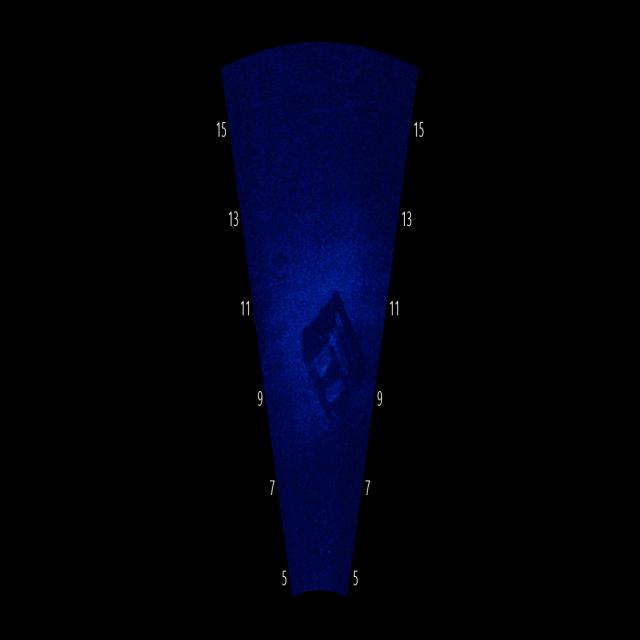square: (292, 272, 370, 448)
